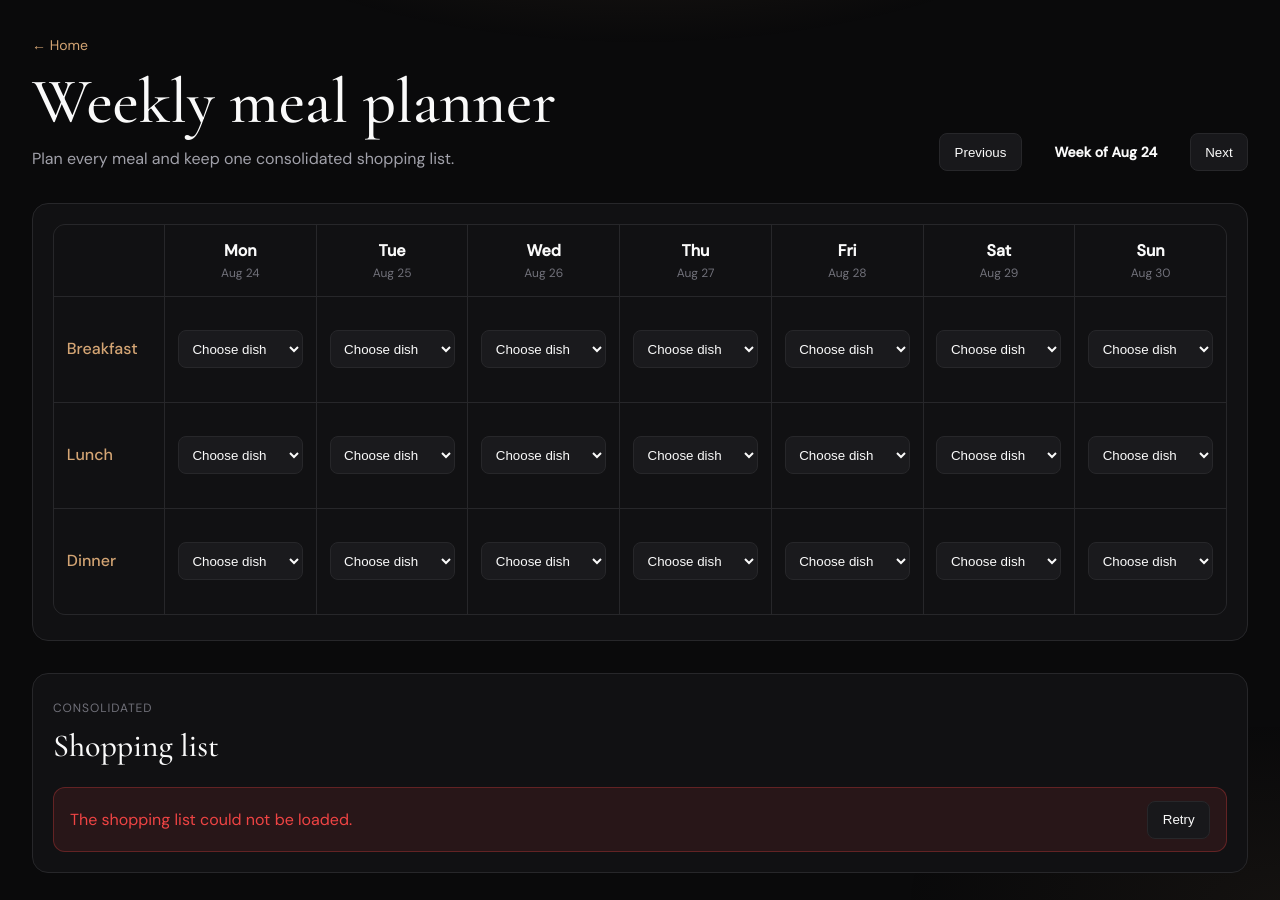
MealPlansPage should › retry a failed shopping list and render the recovered items
Check: the message shows "The shopping list could not be loaded.", box left=70, top=809, right=352, bottom=830
Click the button "Retry": x=1179, y=820 left=1147, top=801, right=1210, bottom=838
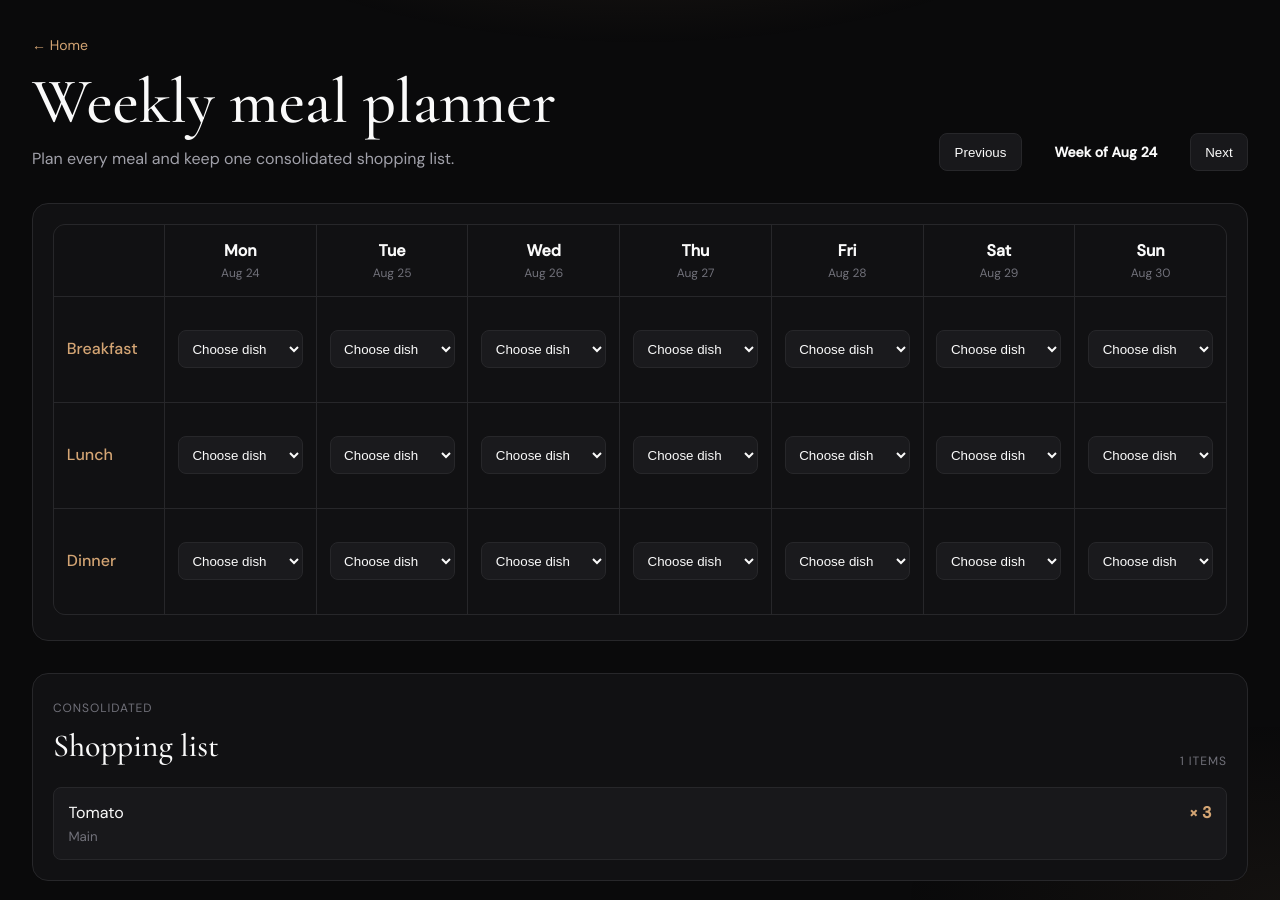
Check: the text "Tomato" is shown, box left=68, top=802, right=124, bottom=823
Check: the text "× 3" is shown, box left=1189, top=802, right=1212, bottom=823
Check: the text "The shopping list could not be loaded." is gone
